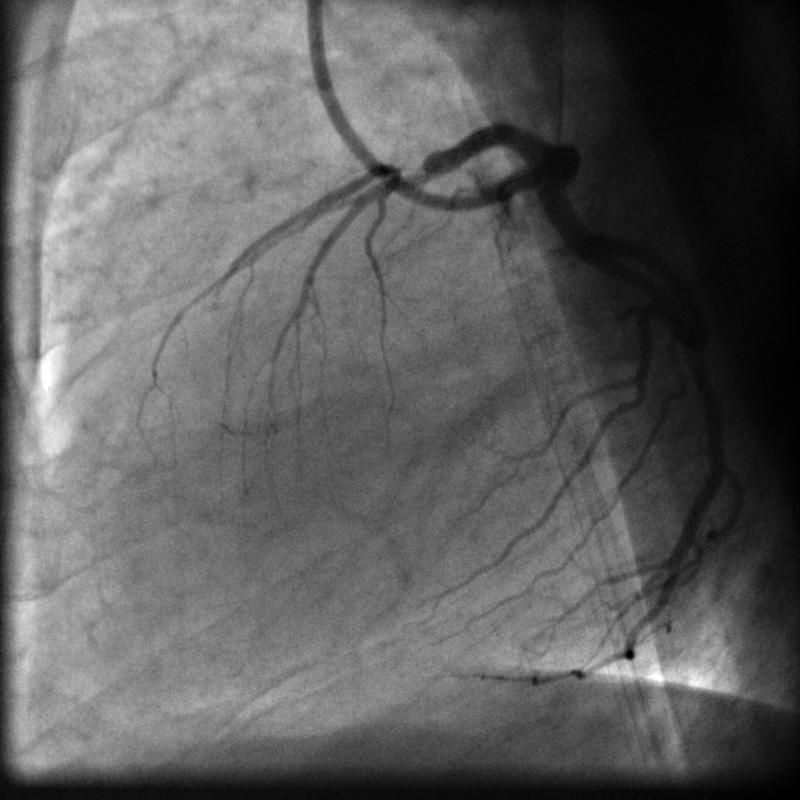Stenosis: (378, 156, 437, 187)
